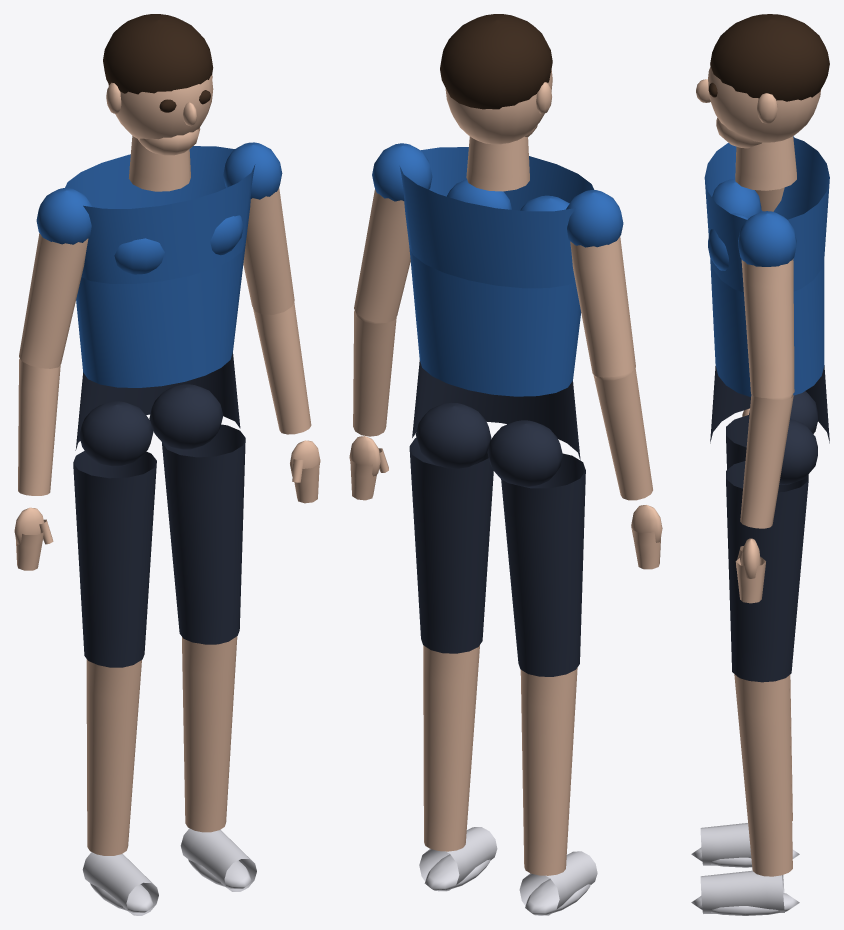
Rendered from human.obj.
The picture shows the model from 3 angles, left to right: view 1: azimuth 30°, elevation 25°; view 2: azimuth 150°, elevation 25°; view 3: azimuth 270°, elevation 25°; orthographic projection. The views are drawn at different scales.
Parts seen in each view (by area): view 1: skin, pants, clothes, hair, shoes; view 2: skin, pants, clothes, hair, shoes; view 3: skin, clothes, pants, hair, shoes.
Boxes of the visible parts, bbox=[...] form: skin: bbox=[14, 74, 320, 855]; pants: bbox=[73, 352, 245, 667]; clothes: bbox=[36, 142, 282, 387]; hair: bbox=[103, 14, 213, 112]; shoes: bbox=[82, 828, 256, 915]; skin: bbox=[349, 70, 662, 875]; pants: bbox=[409, 360, 585, 676]; clothes: bbox=[372, 143, 623, 396]; hair: bbox=[440, 14, 552, 109]; shoes: bbox=[419, 827, 597, 915]; skin: bbox=[696, 66, 820, 876]; clothes: bbox=[704, 136, 829, 396]; pants: bbox=[710, 365, 829, 682]; hair: bbox=[708, 14, 829, 101]; shoes: bbox=[691, 823, 799, 915].
Bounding box in the file's own units: 65.4 × 176 × 25.5.
